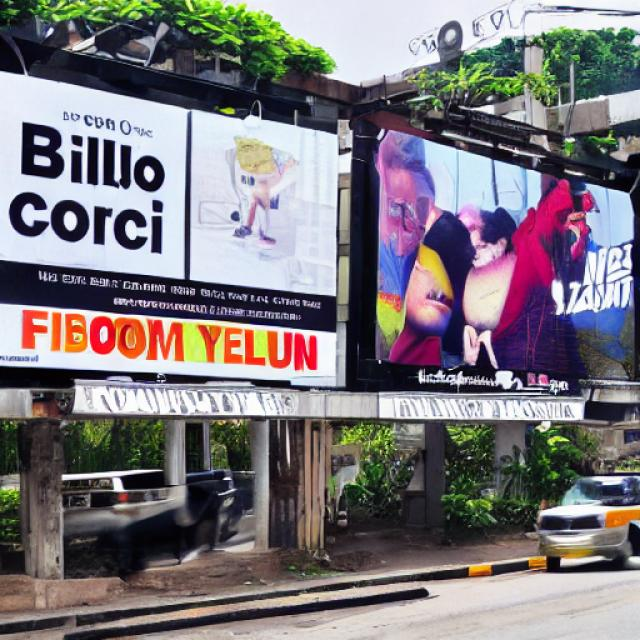Billboard: (0, 67, 342, 387), (362, 120, 640, 396)
